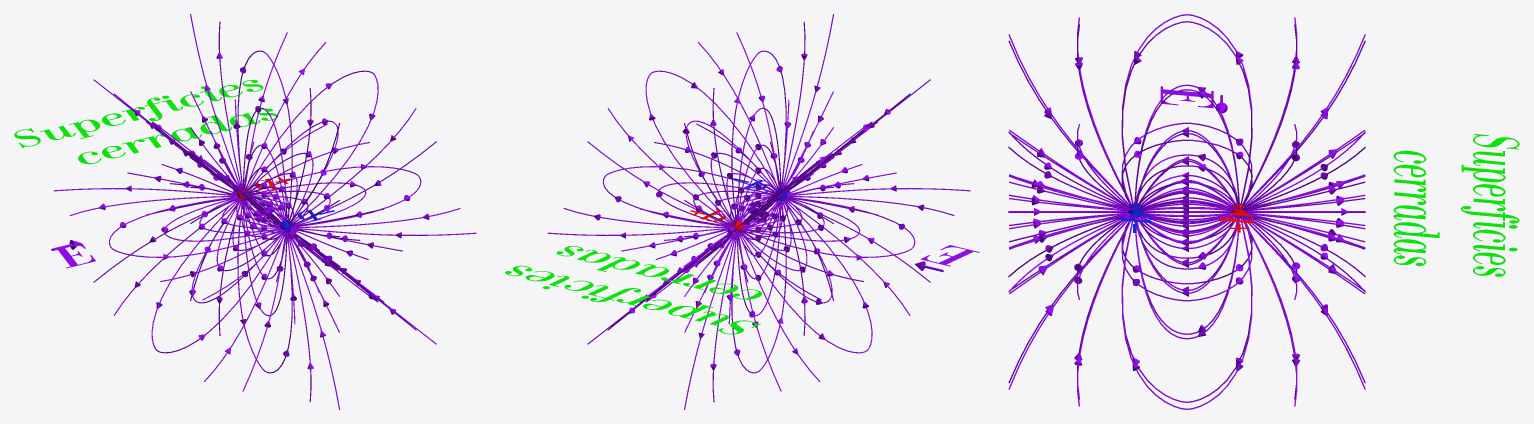
File: dipolo encerado.glb
3 views of the same model, side by side, from view 1: azimuth 30°, elevation 25°; view 2: azimuth 150°, elevation 25°; view 3: azimuth 270°, elevation 25° (orthographic). The views are drawn at different scales.
Parts seen in each view (by area): view 1: BezierCircle.002, BezierCircle.024, BezierCircle.007, Text.004, BezierCircle.001; view 2: BezierCircle.002, BezierCircle.024, BezierCircle.007, Text.004, BezierCircle.001; view 3: BezierCircle.001, BezierCircle.007, BezierCircle.024, BezierCircle.002, Text.004.
Part boxes in pixels (left/top/right/bottom): BezierCircle.002: left=93, top=32, right=436, bottom=391; BezierCircle.024: left=53, top=123, right=476, bottom=300; BezierCircle.007: left=190, top=14, right=340, bottom=409; Text.004: left=14, top=80, right=278, bottom=164; BezierCircle.001: left=93, top=79, right=436, bottom=344; BezierCircle.002: left=587, top=32, right=930, bottom=391; BezierCircle.024: left=547, top=123, right=970, bottom=300; BezierCircle.007: left=684, top=14, right=833, bottom=409; Text.004: left=505, top=246, right=761, bottom=334; BezierCircle.001: left=587, top=79, right=930, bottom=344; BezierCircle.001: left=1008, top=14, right=1365, bottom=409; BezierCircle.007: left=1008, top=21, right=1365, bottom=402; BezierCircle.024: left=1008, top=122, right=1365, bottom=301; BezierCircle.002: left=1008, top=139, right=1365, bottom=284; Text.004: left=1393, top=134, right=1519, bottom=276.
Size of the model in its own units: 26.93 by 22.69 by 27.54.
